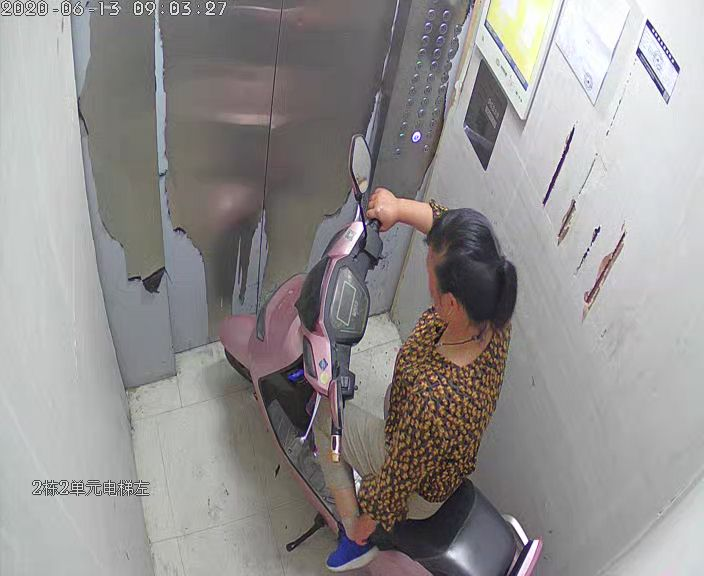Electric-bicycle: (226, 138, 537, 576)
